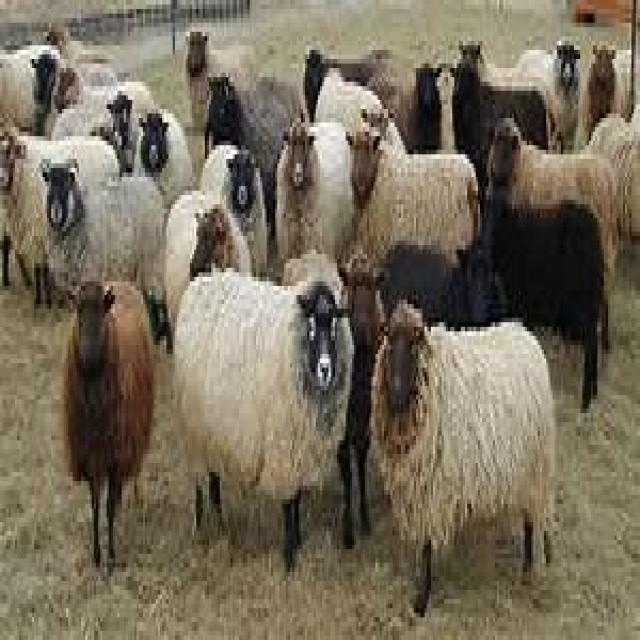sheep: (369, 295, 555, 617), (171, 263, 354, 572), (482, 123, 616, 405), (62, 277, 156, 572), (38, 154, 166, 345), (345, 104, 478, 268), (0, 122, 119, 304), (203, 68, 305, 236), (162, 186, 252, 350), (273, 114, 356, 264), (198, 141, 267, 277), (580, 100, 638, 240), (513, 36, 582, 152), (183, 27, 254, 127), (586, 38, 640, 131)
